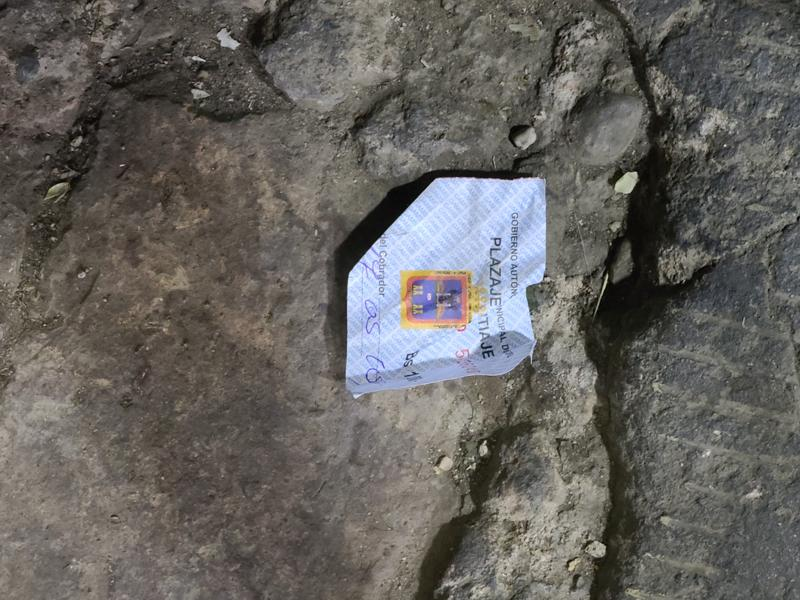papel: (333, 174, 548, 399)
